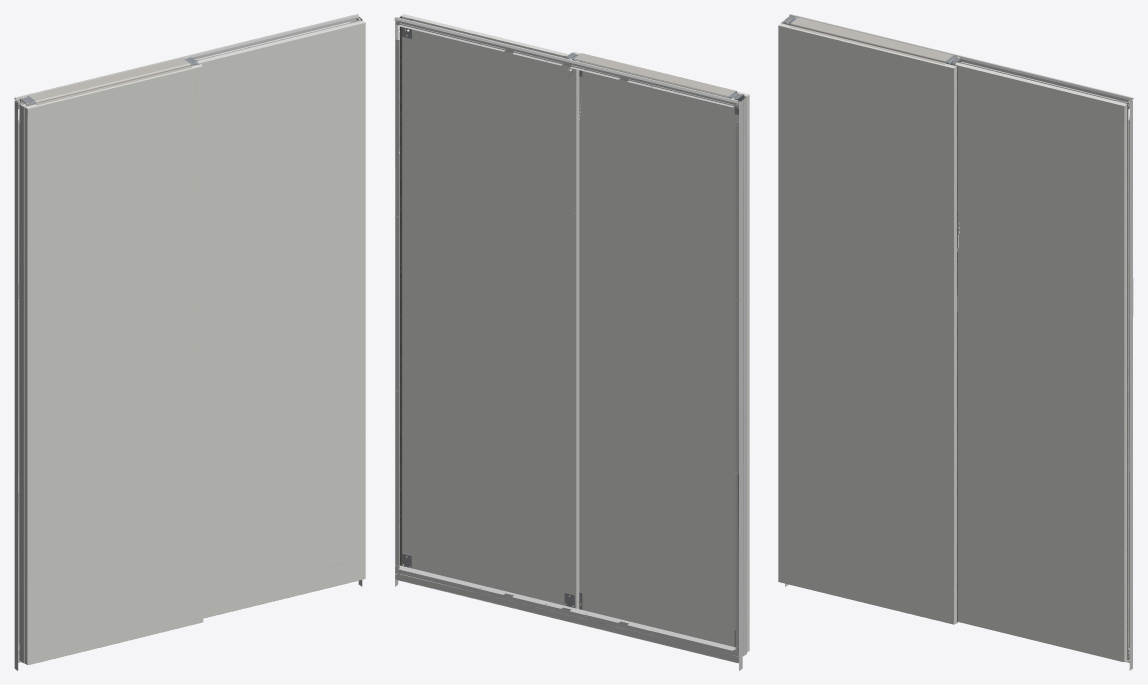
File: 20 - HASVIK - 滑門組, 白色, 150x236 公分 IKEA 線上購物.glb
The picture shows the model from 3 angles, left to right: view 1: azimuth 30°, elevation 25°; view 2: azimuth 150°, elevation 25°; view 3: azimuth 330°, elevation 25°; orthographic projection.
Parts seen in each view (by area): view 1: 90521538-HASVIK001; view 2: 90521538-HASVIK001; view 3: 90521538-HASVIK001.
Part boxes in pixels (x1,y1,x2,y2): 90521538-HASVIK001: (14, 14, 365, 670); 90521538-HASVIK001: (394, 14, 749, 670); 90521538-HASVIK001: (778, 14, 1133, 670).
Bounding box in the file's own units: 1.5 × 2.37 × 0.1024.
Materials: 1 (1 with a texture image).
